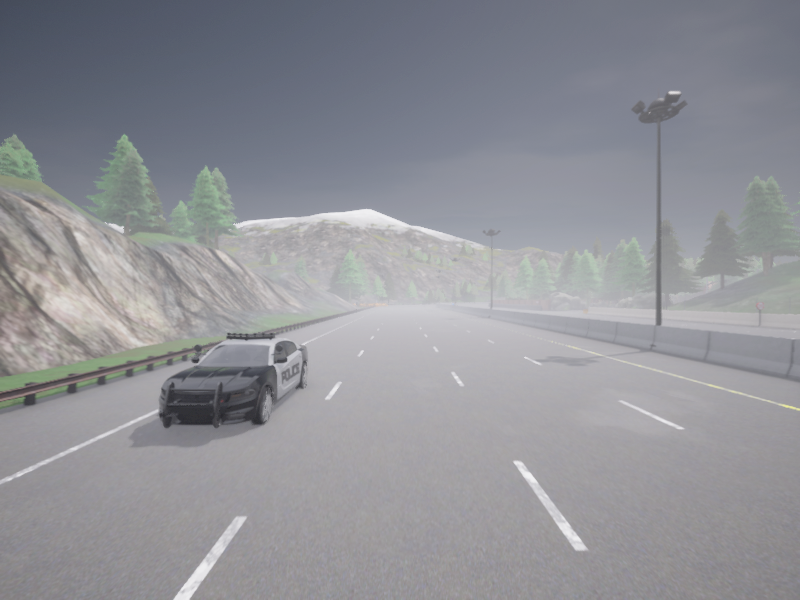vehicle: (159, 333, 308, 427), (452, 303, 454, 304)
